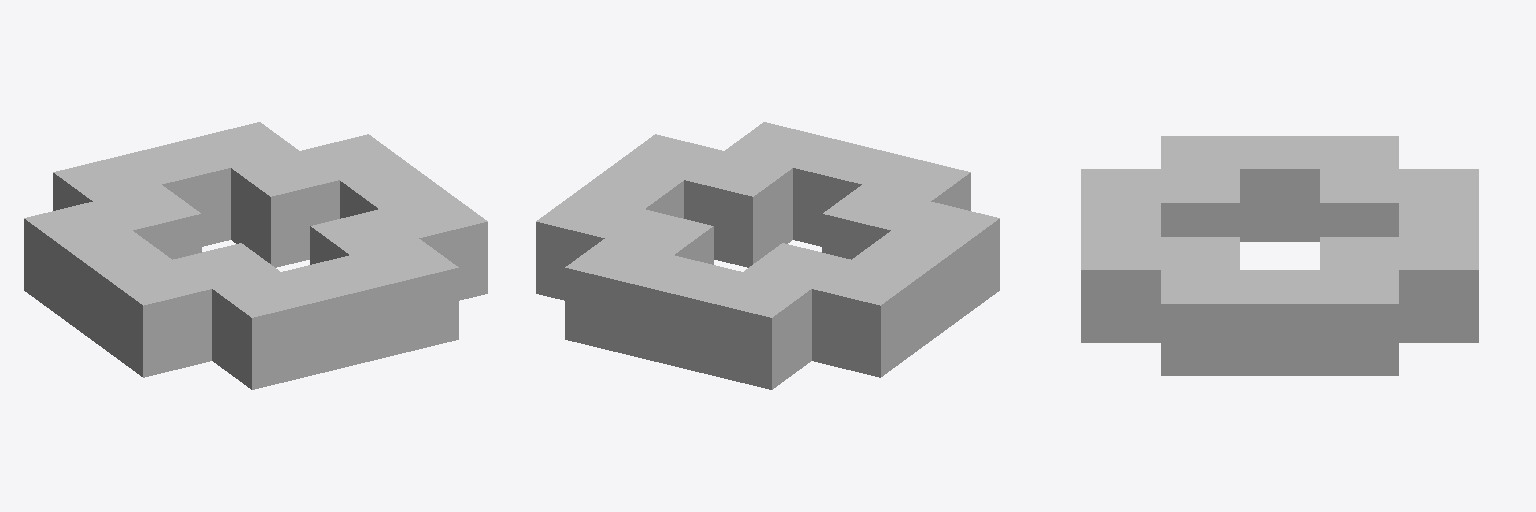
The model's file is obj-life-preserver.obj.
3 renders of one model, left to right at view 1: azimuth 30°, elevation 25°; view 2: azimuth 150°, elevation 25°; view 3: azimuth 270°, elevation 25°, orthographic.
Visible parts, largest first — view 1: life-preserver; view 2: life-preserver; view 3: life-preserver.
Part boxes in pixels (x1,y1,x2,y2): life-preserver: (24,122,487,389); life-preserver: (536,122,999,389); life-preserver: (1081,136,1478,375).
Bounding box in the file's own units: 0.5 × 0.1 × 0.5.